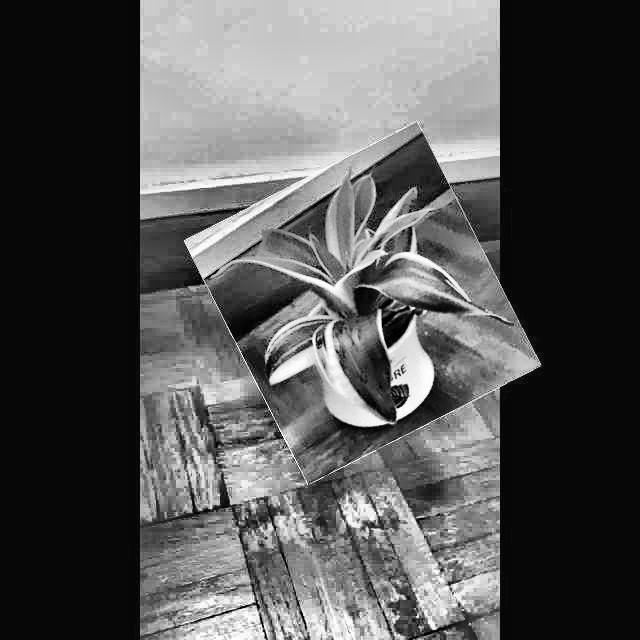plants: (208, 144, 518, 462)
